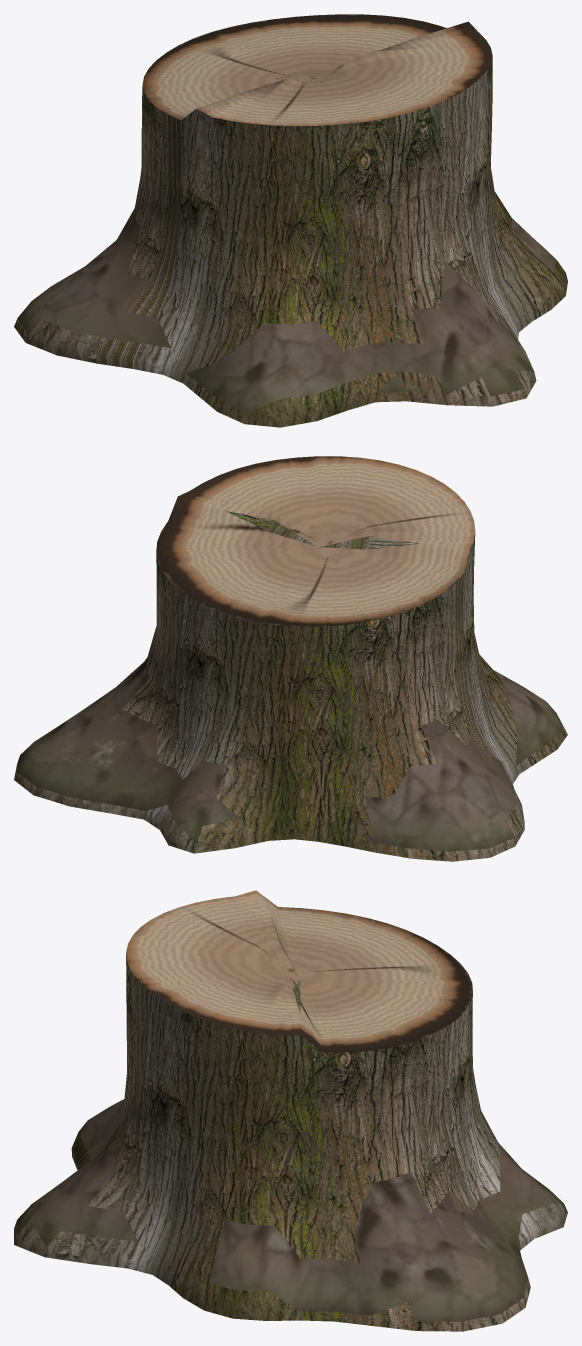
3 views of the same model, one above another, from view 1: azimuth 30°, elevation 25°; view 2: azimuth 150°, elevation 25°; view 3: azimuth 270°, elevation 25° (orthographic). The views are drawn at different scales.
Visible parts, largest first — view 1: variant_0; view 2: variant_0; view 3: variant_0.
Boxes of the visible parts, x1,y1,x2,y2 form: variant_0: [14, 14, 567, 427]; variant_0: [14, 456, 567, 861]; variant_0: [14, 890, 567, 1331].
Bounding box in the file's own units: 0.8911 × 0.4449 × 0.8607.
2 materials, 2 textured.
